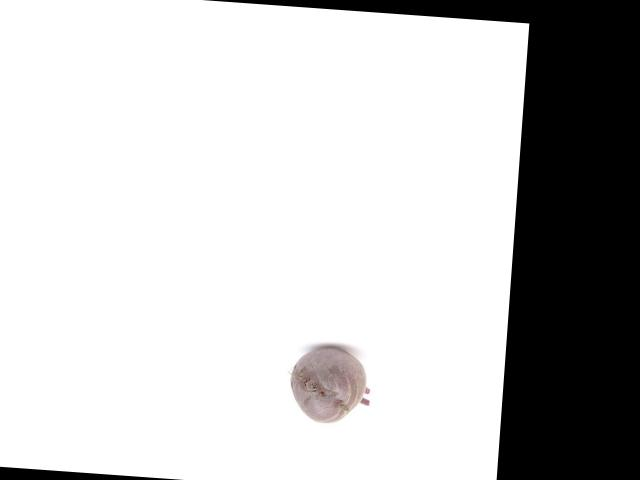beet: (287, 342, 372, 426)
